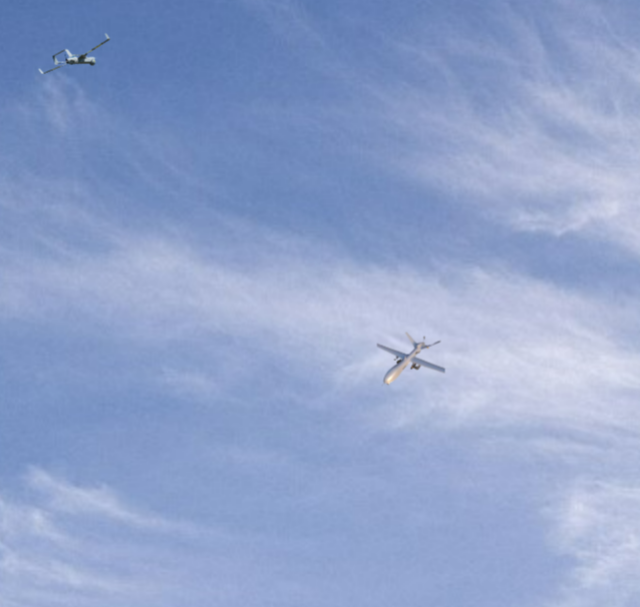military drone: (376, 331, 445, 385), (37, 31, 110, 74)
